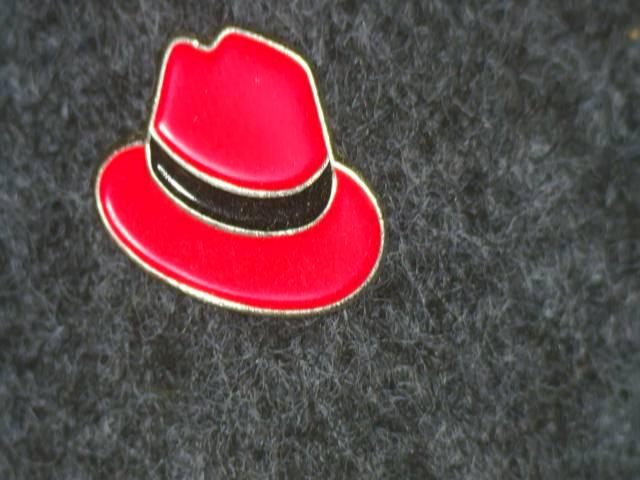Red-Hat: (69, 11, 392, 375)
